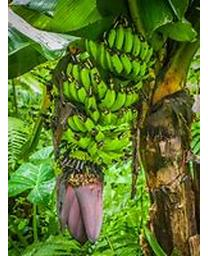banana: (63, 23, 155, 170)
